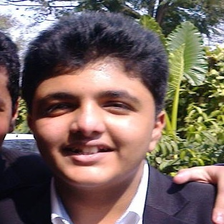no_mask: (30, 65, 154, 188)
